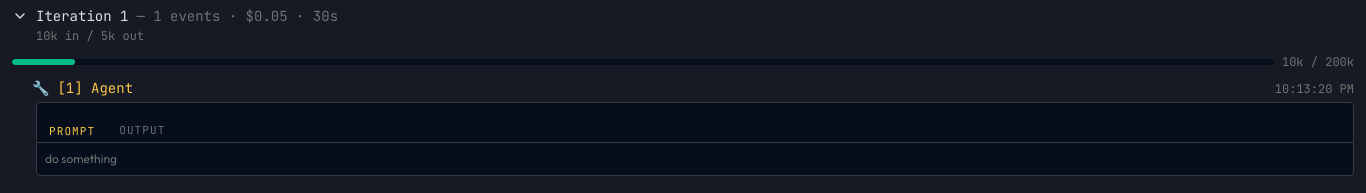
IterationGroupComponent › ANSI color rendering in tool output › does not apply ANSI parsing to Agent tool output
Note: Click the Output tab to reveal content
Click the tab "Output" at (142, 130), box x1=107 y1=119 x2=177 y2=142
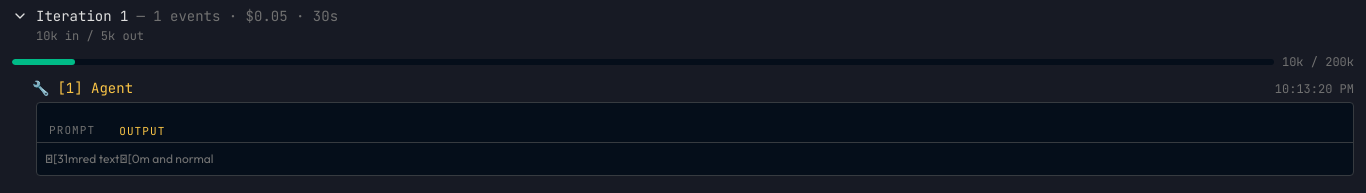
Check: the text "[31mred text [0m and normal" is shown, box x1=45 y1=151 x2=214 y2=166
